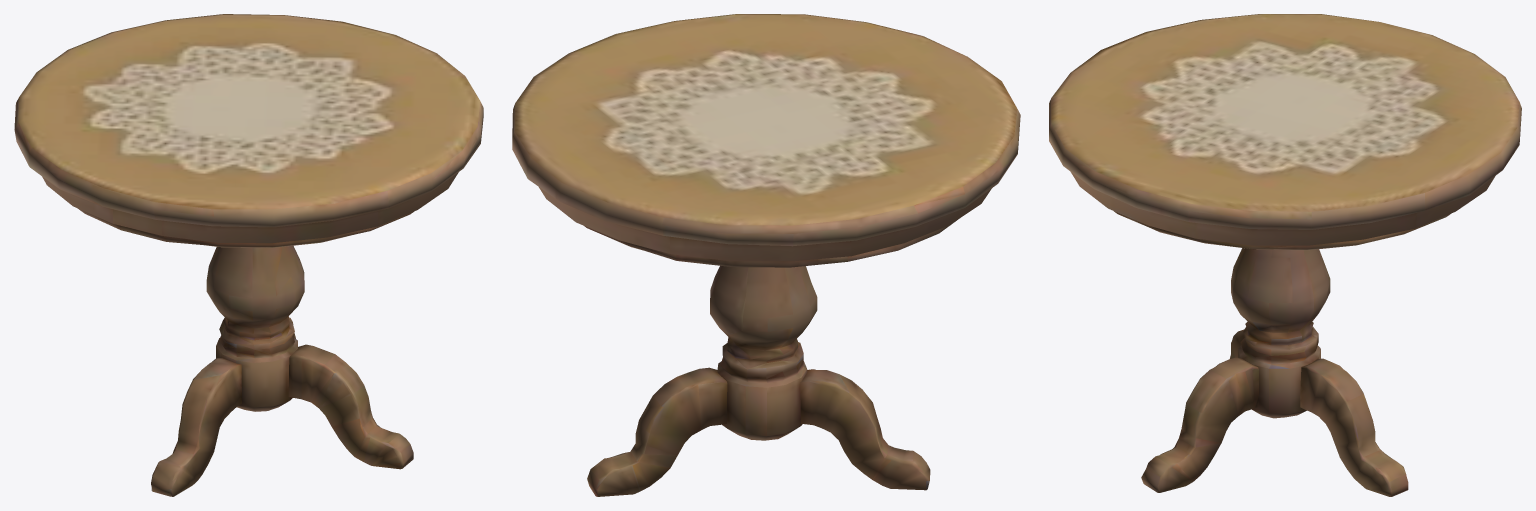
Rendered from wyn_furn_cottage_round_table.glb.
The picture shows the model from 3 angles, left to right: view 1: azimuth 30°, elevation 25°; view 2: azimuth 150°, elevation 25°; view 3: azimuth 270°, elevation 25°; orthographic projection. The views are drawn at different scales.
Parts seen in each view (by area): view 1: tripo_node_5167e9e4-2452-4f84-8595-92320301de85; view 2: tripo_node_5167e9e4-2452-4f84-8595-92320301de85; view 3: tripo_node_5167e9e4-2452-4f84-8595-92320301de85.
Boxes of the visible parts, x1,y1,x2,y2 form: tripo_node_5167e9e4-2452-4f84-8595-92320301de85: (14, 14, 483, 496); tripo_node_5167e9e4-2452-4f84-8595-92320301de85: (512, 14, 1020, 496); tripo_node_5167e9e4-2452-4f84-8595-92320301de85: (1049, 14, 1521, 496).
Size of the model in its own units: 1.02 by 0.8 by 1.02.
1 material, 1 textured.
